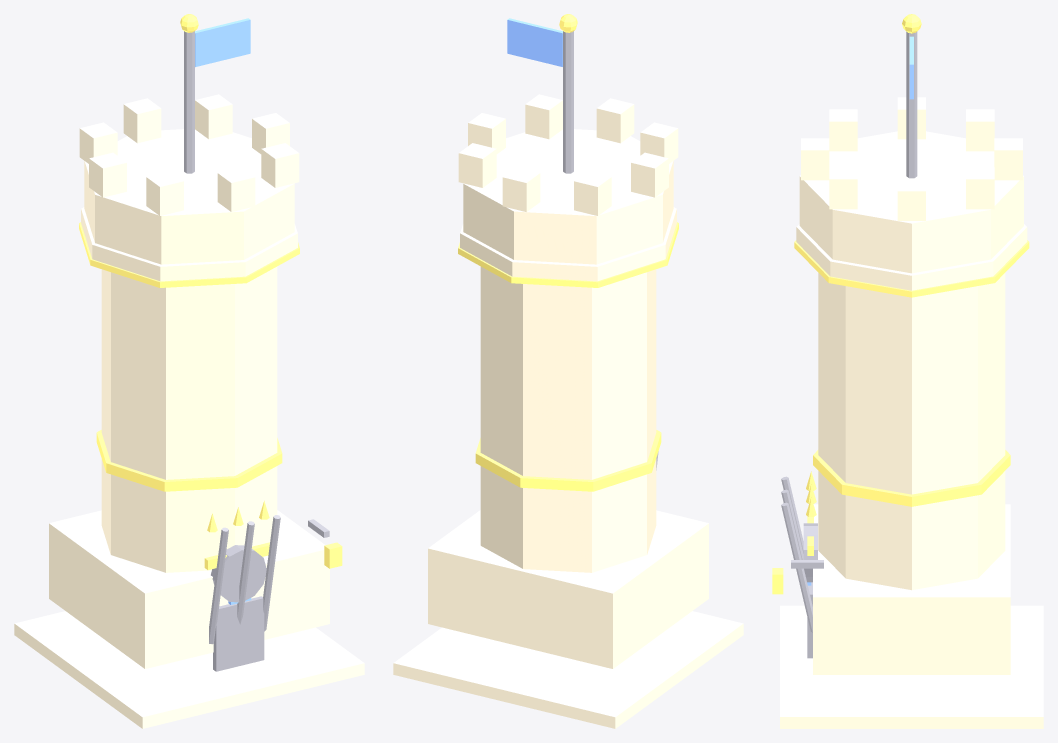
The model's file is GuardPost.glb.
3 views of the same model, side by side, from view 1: azimuth 30°, elevation 25°; view 2: azimuth 150°, elevation 25°; view 3: azimuth 270°, elevation 25° (orthographic). The views are drawn at different scales.
Visible parts, largest first — view 1: TowerShaft, Gatehouse, Parapet, Platform, CorbelRing, DoorVoid, MidRing, Flag, DoorArch, CorbelGoldRing, FlagPole, Cren_6 (+10 smaller); view 2: TowerShaft, Gatehouse, Platform, Parapet, CorbelRing, MidRing, Flag, CorbelGoldRing, FlagPole, Cren_2, Cren_1, Cren_6 (+5 smaller); view 3: TowerShaft, Parapet, Gatehouse, Platform, CorbelRing, MidRing, CorbelGoldRing, FlagPole, Cren_1, Cren_5, Cren_7, Cren_2 (+6 smaller).
Part boxes in pixels (x1,y1,x2,y2): TowerShaft: (101, 266, 277, 572); Gatehouse: (49, 510, 329, 668); Parapet: (84, 129, 294, 264); Platform: (14, 611, 364, 728); CorbelRing: (81, 207, 297, 281); DoorVoid: (213, 596, 264, 671); MidRing: (96, 430, 282, 491); Flag: (195, 18, 250, 66); DoorArch: (211, 545, 266, 602); CorbelGoldRing: (79, 222, 299, 287); FlagPole: (184, 31, 194, 173); Cren_6: (217, 167, 255, 211); TowerShaft: (480, 266, 656, 572); Gatehouse: (428, 510, 708, 668); Platform: (393, 611, 743, 728); Parapet: (463, 129, 673, 264); CorbelRing: (460, 207, 676, 281); MidRing: (475, 430, 661, 491); Flag: (507, 18, 562, 66); CorbelGoldRing: (458, 222, 678, 287); FlagPole: (563, 31, 573, 173); Cren_2: (502, 167, 540, 211); Cren_1: (458, 143, 496, 187); Cren_6: (596, 98, 634, 143); TowerShaft: (818, 273, 1005, 590); Parapet: (799, 131, 1023, 273); Gatehouse: (813, 504, 1010, 674); Platform: (780, 605, 1043, 728); CorbelRing: (796, 224, 1027, 290); MidRing: (813, 450, 1010, 506); CorbelGoldRing: (794, 240, 1029, 297); FlagPole: (906, 31, 917, 178); Cren_1: (966, 167, 994, 209); Cren_5: (829, 109, 857, 151); Cren_7: (829, 167, 857, 209); Cren_2: (994, 138, 1022, 180).
Bounding box in the file's own units: 2.4 × 6.61 × 2.47.
